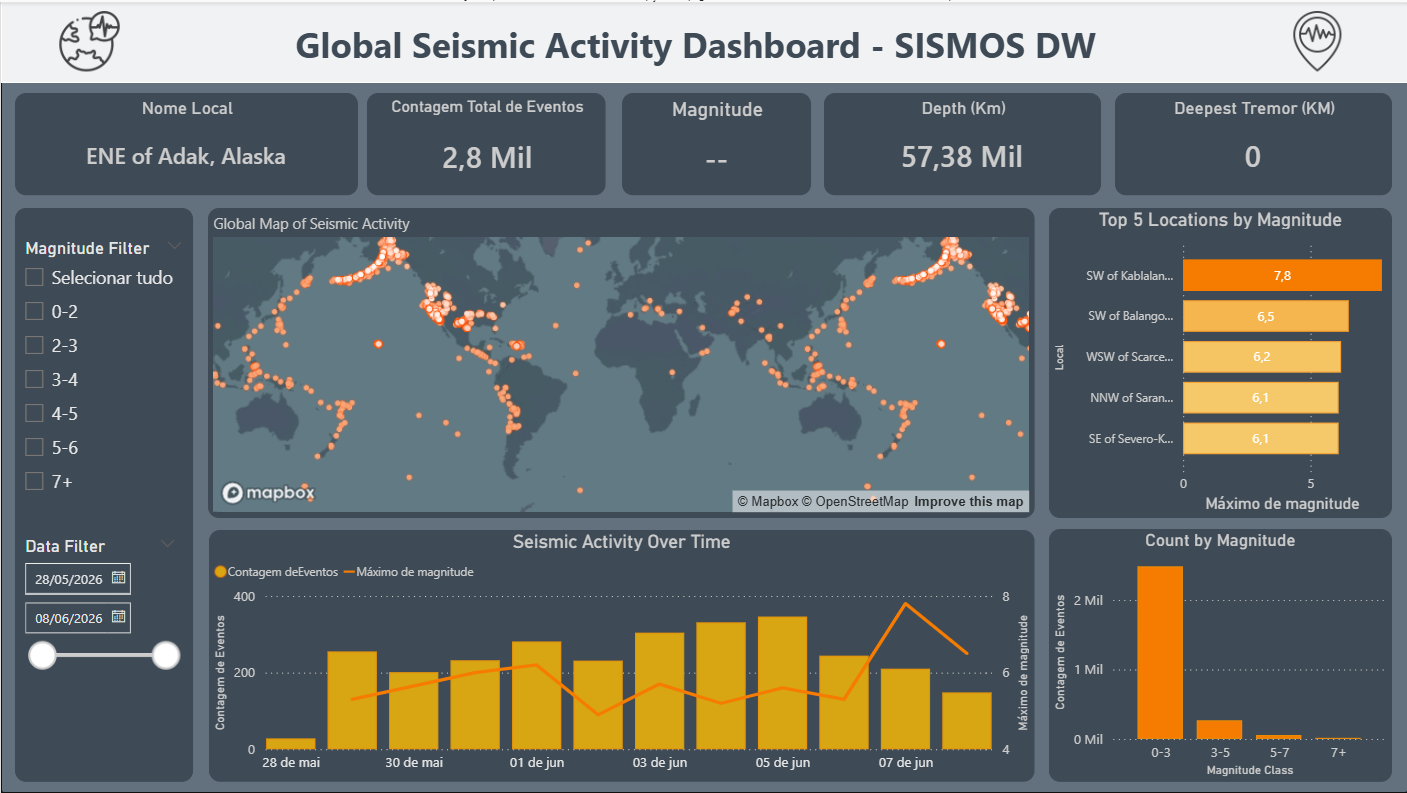

The dashboard page shown, as its layout file describes it:
{"tool":"powerbi","page":{"name":"Página 1","canvas":[1280,720],"ordinal":0},"visuals":[{"type":"shape","box":[0,0,1280,73.7],"z":0},{"type":"textbox","box":[263,11,750,63],"z":1000},{"type":"image","box":[39.9,7.8,80.7,55.4],"z":2000},{"type":"image","box":[1163.3,7.8,68.1,55.4],"z":3000},{"type":"textbox","box":[12.7,187.3,161.8,521.8],"z":4000},{"type":"textbox","box":[188.2,187.3,751.8,281.8],"z":5000},{"type":"textbox","box":[188.9,480,751.1,228.9],"z":6000},{"type":"textbox","box":[953.6,187.3,311.8,281.8],"z":7000},{"type":"textbox","box":[953.6,479.1,311.8,230],"z":8000},{"type":"textbox","box":[188.2,187.3,709.1,29.1],"z":9000},{"type":"PBI_CV_EB3A4088_75C5_4746_9D8B_255A7B7ECD6D","fields":{"latitude":["sismos localizacao.latitude"],"longitude":["sismos localizacao.longitude"],"color":["Max(sismos fato_tremor.magnitude)"]},"box":[188.2,209.1,751.8,260],"z":10000},{"type":"lineClusteredColumnComboChart","title":"Seismic Activity Over Time","fields":{"Y2":["Max(sismos fato_tremor.magnitude)"],"Category":["sismos tempo.data_completa"],"Y":["CountNonNull(sismos fato_tremor.id_evento)"]},"box":[189.1,480,750.9,229.1],"z":11000},{"type":"barChart","title":"Top 5 Locations by Magnitude","fields":{"Y":["Max(sismos fato_tremor.magnitude)"],"Category":["sismos localizacao.nome_local"]},"box":[953.6,187.3,311.8,281.8],"z":12000},{"type":"lineClusteredColumnComboChart","title":"Count by Magnitude","fields":{"Category":["sismos fato_tremor.Magnitude Class"],"Y":["Count(sismos fato_tremor.id_evento)"]},"box":[953.6,480,311.8,229.1],"z":13000},{"type":"cardVisual","title":"Contagem Total de Eventos","fields":{"Data":["Count(sismos fato_tremor.id_local)"]},"box":[333.4,82.5,217.2,93.1],"z":14000},{"type":"cardVisual","title":"Nome Local","fields":{"Data":["Min(sismos localizacao.nome_local)"]},"box":[12.7,82.7,311.8,92.7],"z":15000},{"type":"cardVisual","title":"Depth (Km)","fields":{"Data":["Sum(sismos fato_tremor.profundidade_km)"]},"box":[749.1,82.7,251.8,92.7],"z":16000},{"type":"cardVisual","title":"Deepest Tremor  (KM)","fields":{"Data":["Min(sismos localizacao.distancia_do_nome_local)"]},"box":[1013.6,82.7,251.8,92.7],"z":17000},{"type":"cardVisual","title":"Magnitude","fields":{"Data":["Sum(sismos fato_tremor.magnitude)"]},"box":[564.8,82.5,172,93.1],"z":18000},{"type":"slicer","fields":{"Values":["sismos fato_tremor.Magnitude Class filter"]},"box":[9.1,209.2,168.3,260.2],"z":19000},{"type":"slicer","fields":{"Values":["sismos tempo.data_completa"]},"box":[9.1,480.3,161.9,191],"z":20000}]}

Visuals, with their boxes in screenshot pixels (x1, y1, x2, y2), scaled from the page's 1280x720 canvas onto the 1407x793 screenshot:
shape: {"left": 0, "top": 0, "right": 1406, "bottom": 81}
textbox: {"left": 289, "top": 12, "right": 1114, "bottom": 82}
image: {"left": 44, "top": 9, "right": 133, "bottom": 70}
image: {"left": 1279, "top": 9, "right": 1354, "bottom": 70}
textbox: {"left": 14, "top": 206, "right": 192, "bottom": 781}
textbox: {"left": 207, "top": 206, "right": 1033, "bottom": 517}
textbox: {"left": 208, "top": 529, "right": 1033, "bottom": 781}
textbox: {"left": 1048, "top": 206, "right": 1391, "bottom": 517}
textbox: {"left": 1048, "top": 528, "right": 1391, "bottom": 781}
textbox: {"left": 207, "top": 206, "right": 986, "bottom": 238}
PBI_CV_EB3A4088_75C5_4746_9D8B_255A7B7ECD6D - sismos localizacao.latitude x sismos localizacao.longitude: {"left": 207, "top": 230, "right": 1033, "bottom": 517}
"Seismic Activity Over Time" lineClusteredColumnComboChart: {"left": 208, "top": 529, "right": 1033, "bottom": 781}
"Top 5 Locations by Magnitude" barChart: {"left": 1048, "top": 206, "right": 1391, "bottom": 517}
"Count by Magnitude" lineClusteredColumnComboChart: {"left": 1048, "top": 529, "right": 1391, "bottom": 781}
"Contagem Total de Eventos" cardVisual: {"left": 366, "top": 91, "right": 605, "bottom": 193}
"Nome Local" cardVisual: {"left": 14, "top": 91, "right": 357, "bottom": 193}
"Depth (Km)" cardVisual: {"left": 823, "top": 91, "right": 1100, "bottom": 193}
"Deepest Tremor  (KM)" cardVisual: {"left": 1114, "top": 91, "right": 1391, "bottom": 193}
"Magnitude" cardVisual: {"left": 621, "top": 91, "right": 810, "bottom": 193}
slicer - sismos fato_tremor.Magnitude Class filter: {"left": 10, "top": 230, "right": 195, "bottom": 517}
slicer - sismos tempo.data_completa: {"left": 10, "top": 529, "right": 188, "bottom": 739}
